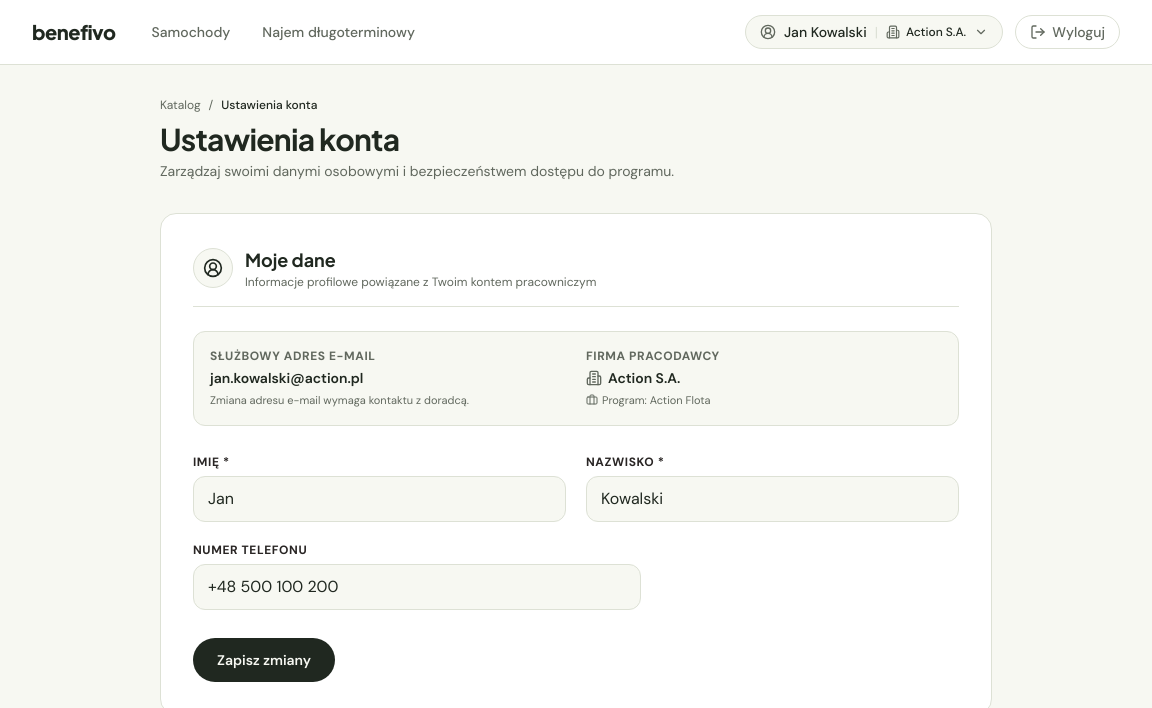
AccountPage Component › updates employee profile successfully when form is submitted
Replace the text in the field labelled "Imię *" with "Adam" at (380, 498), box x1=193 y1=476 x2=566 y2=522
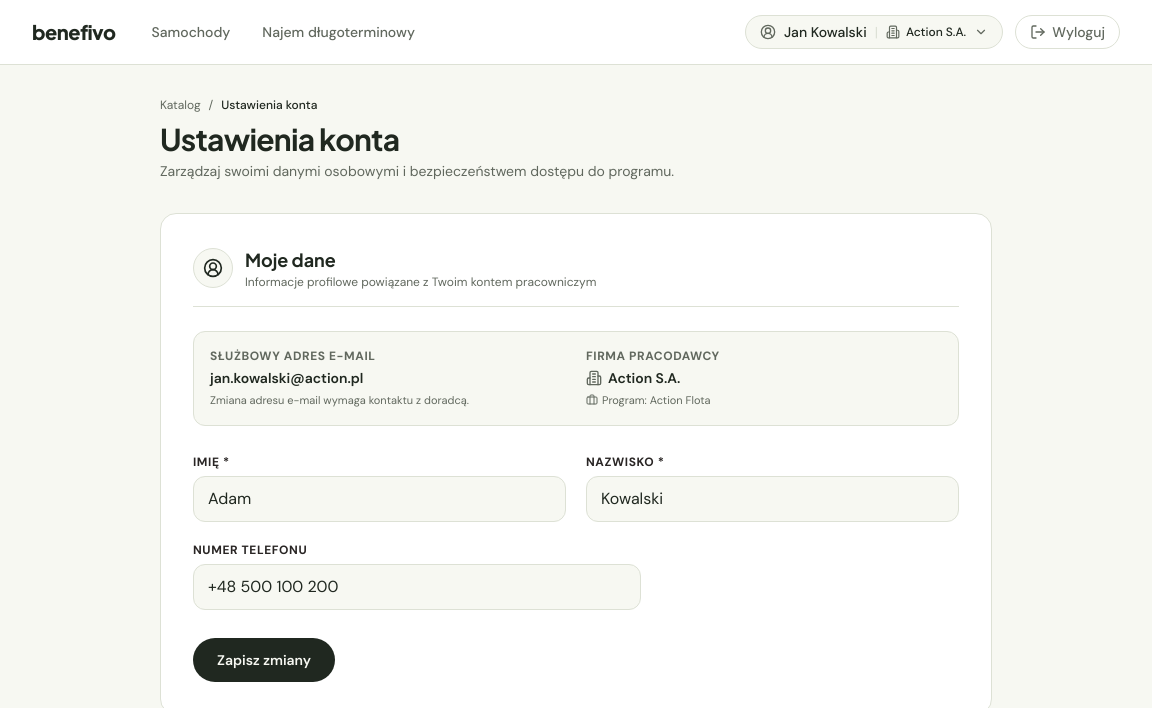
Replace the text in the field labelled "Nazwisko *" with "Nowak" at (772, 498), box x1=586 y1=476 x2=959 y2=522
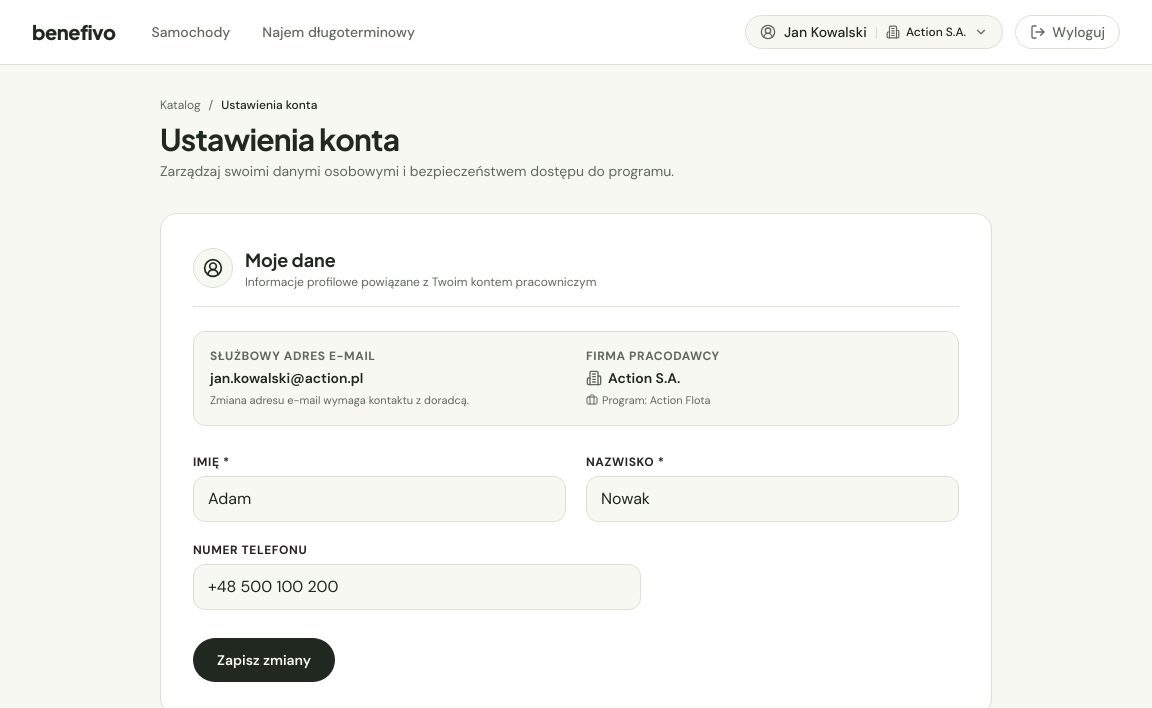
Replace the text in the field labelled "Numer telefonu" with "+48 600 700 800" at (417, 586), box x1=193 y1=564 x2=641 y2=610
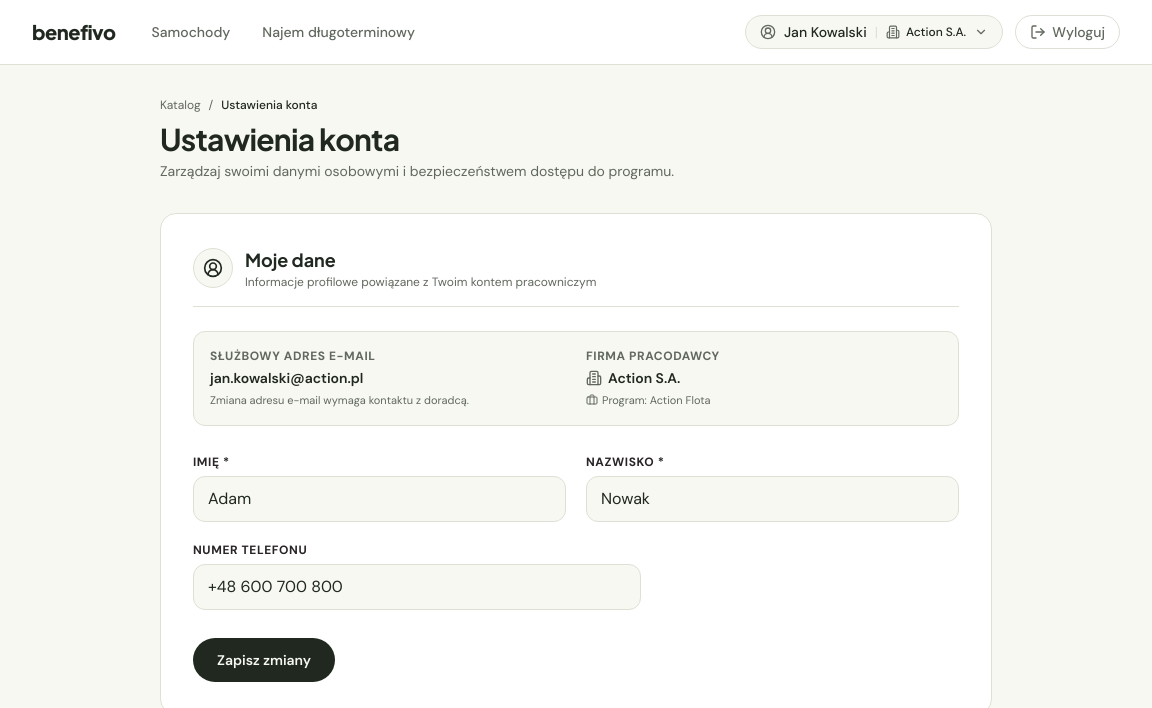
Click the button "Zapisz zmiany".
click(264, 660)  # box x1=193 y1=638 x2=335 y2=682
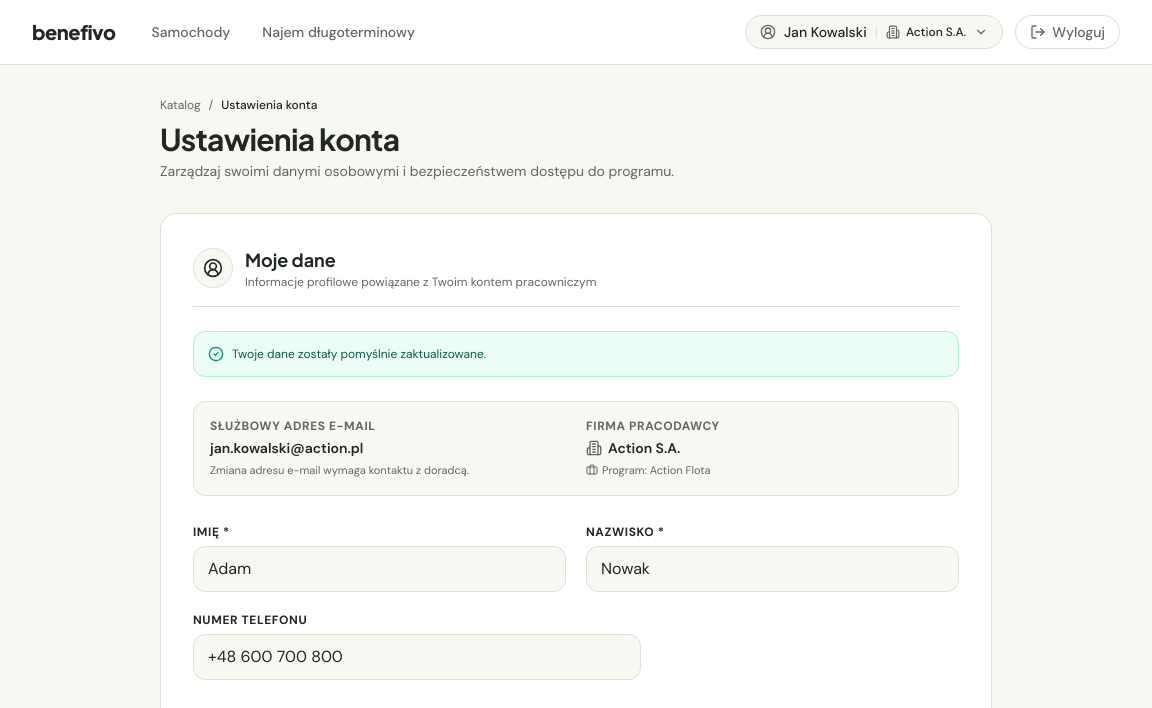
Now the text "Twoje dane zostały pomyślnie zaktualizowane." is shown, box x1=232 y1=346 x2=486 y2=362
